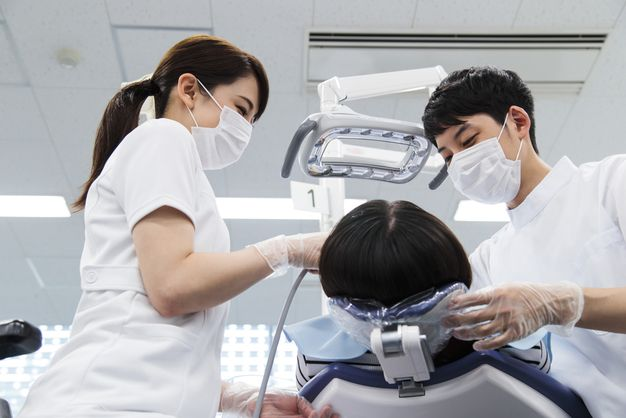mask: (448, 139, 520, 206), (190, 108, 253, 172)
